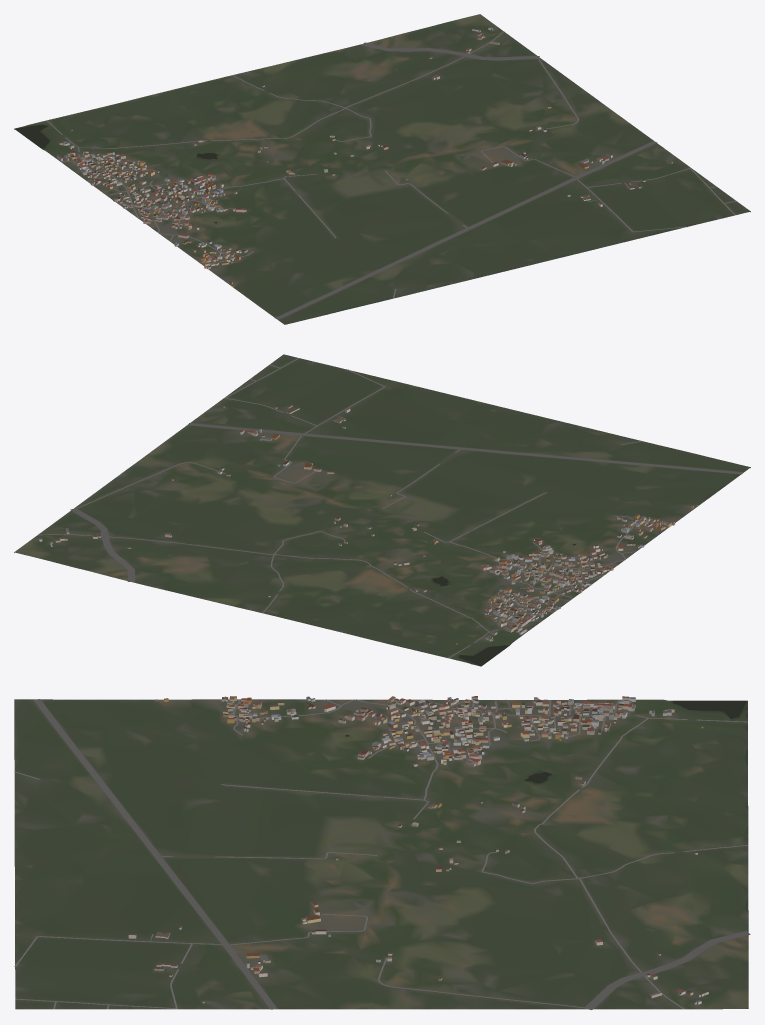
3 views of the same model, one above another, from view 1: azimuth 30°, elevation 25°; view 2: azimuth 150°, elevation 25°; view 3: azimuth 270°, elevation 25° (orthographic). The views are drawn at different scales.
Parts seen in each view (by area): view 1: ground, buildings, roads, water; view 2: ground, buildings, roads, water; view 3: ground, buildings, roads, water.
Part boxes in pixels (<box>): ground: <box>14,14,750,324</box>; buildings: <box>57,27,672,284</box>; roads: <box>46,31,736,319</box>; water: <box>15,124,217,223</box>; ground: <box>14,354,750,666</box>; buildings: <box>39,404,693,644</box>; roads: <box>38,358,742,658</box>; water: <box>432,544,575,665</box>; ground: <box>14,699,748,1009</box>; buildings: <box>128,696,708,1004</box>; roads: <box>14,699,750,1009</box>; water: <box>345,700,746,783</box>.
Bounding box in the file's own units: 1407 × 16.57 × 1408.
